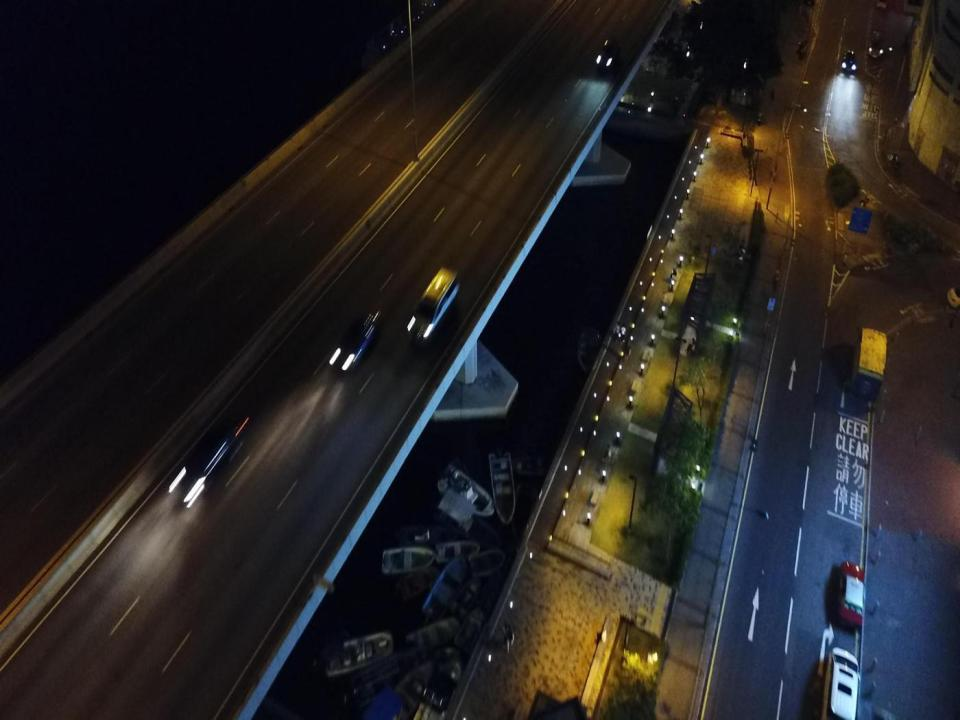car: (185, 421, 239, 502), (332, 304, 383, 368), (820, 646, 860, 719), (839, 562, 865, 629), (597, 32, 623, 70), (842, 49, 856, 74)
truck: (854, 327, 886, 397), (868, 0, 885, 60)
van: (408, 266, 461, 345)
